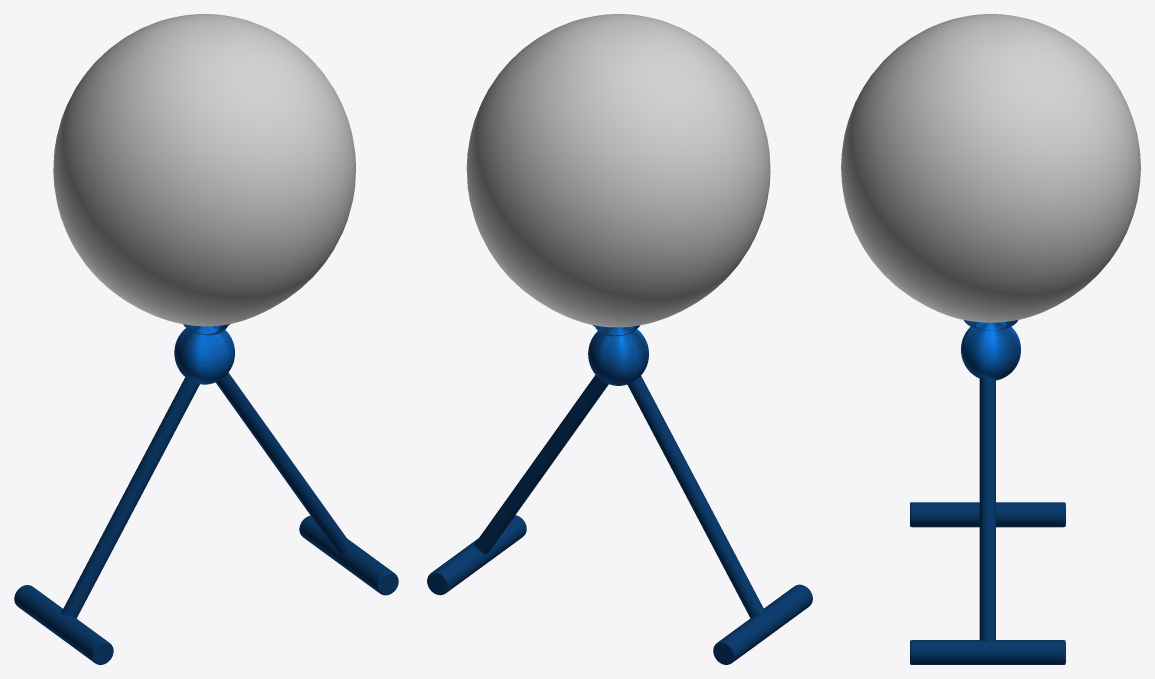
File: lamp4.obj
The picture shows the model from 3 angles, left to right: view 1: azimuth 30°, elevation 25°; view 2: azimuth 150°, elevation 25°; view 3: azimuth 270°, elevation 25°; orthographic projection.
Parts seen in each view (by area): view 1: glass, metal; view 2: glass, metal; view 3: glass, metal.
Boxes of the visible parts, left/top/right/bottom form: glass: left=53, top=14, right=355, bottom=326; metal: left=14, top=324, right=398, bottom=664; glass: left=466, top=14, right=770, bottom=327; metal: left=427, top=325, right=812, bottom=664; glass: left=841, top=14, right=1140, bottom=322; metal: left=910, top=320, right=1065, bottom=664.
Size of the model in its own units: 0.1791 by 0.3186 by 0.1531.
